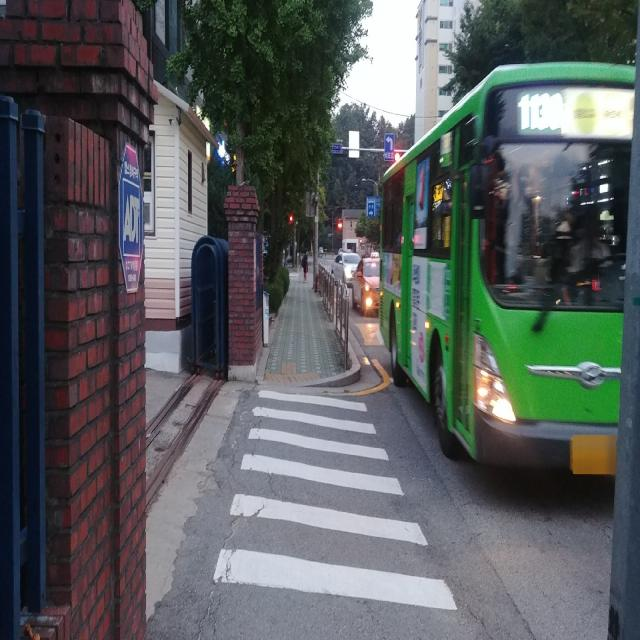횡단보도: (213, 389, 458, 612)
